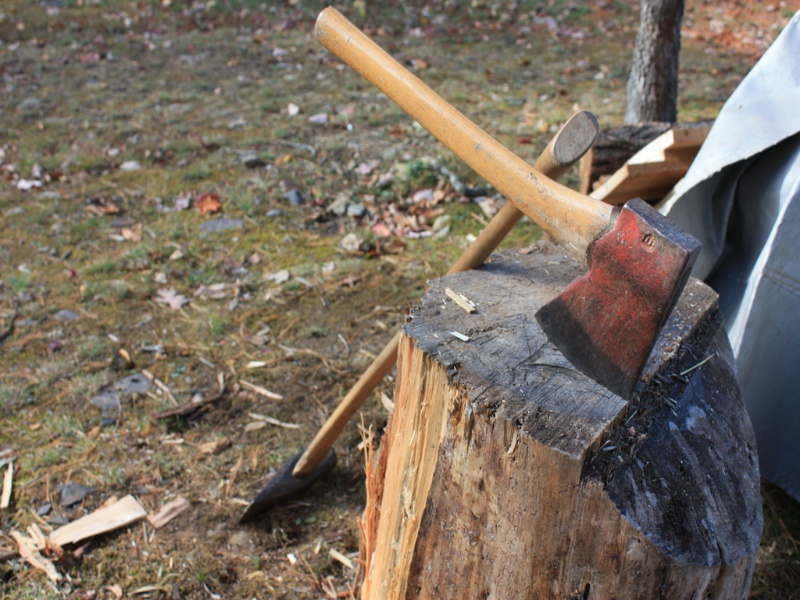axe: (519, 185, 704, 407), (238, 403, 353, 530)
knife: (526, 192, 709, 405)
